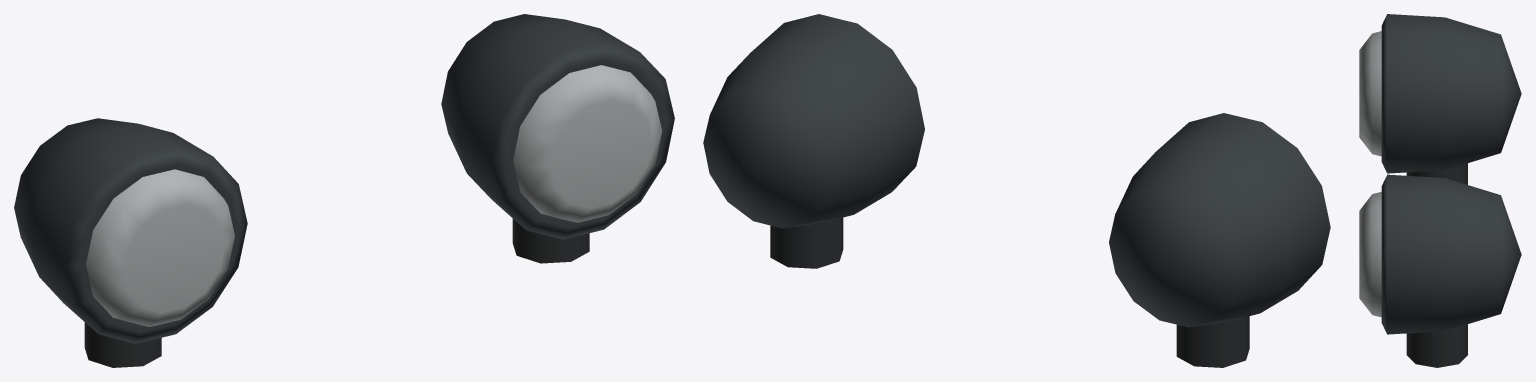
Rendered from Car_06_FogLight.fbx.
3 views of the same model, side by side, from view 1: azimuth 30°, elevation 25°; view 2: azimuth 150°, elevation 25°; view 3: azimuth 270°, elevation 25° (orthographic). The views are drawn at different scales.
Parts seen in each view (by area): view 1: Car_06_FogLight; view 2: Car_06_FogLight; view 3: Car_06_FogLight.
Boxes of the visible parts, box(x1,y1,x2,y2) form: Car_06_FogLight: box(14, 14, 674, 367); Car_06_FogLight: box(703, 14, 1330, 367); Car_06_FogLight: box(1359, 14, 1521, 367).
Size of the model in its own units: 62.21 by 18.57 by 21.76.
